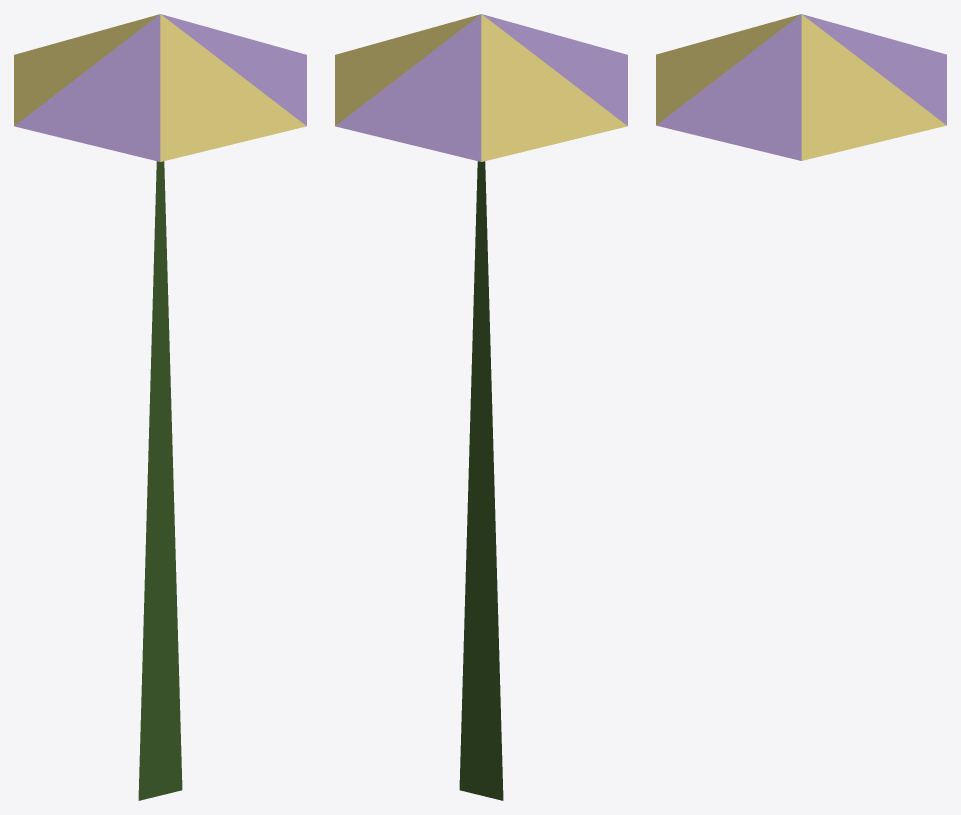
Rendered from flowers.glb.
3 views of the same model, side by side, from view 1: azimuth 30°, elevation 25°; view 2: azimuth 150°, elevation 25°; view 3: azimuth 270°, elevation 25° (orthographic).
Visible parts, largest first — view 1: Цветы; view 2: Цветы; view 3: Цветы.
Boxes of the visible parts, <box> form: Цветы: <box>14,14,306,800</box>; Цветы: <box>335,14,627,800</box>; Цветы: <box>656,14,946,160</box>.
Size of the model in its own units: 0.2 by 0.51 by 0.1732.
